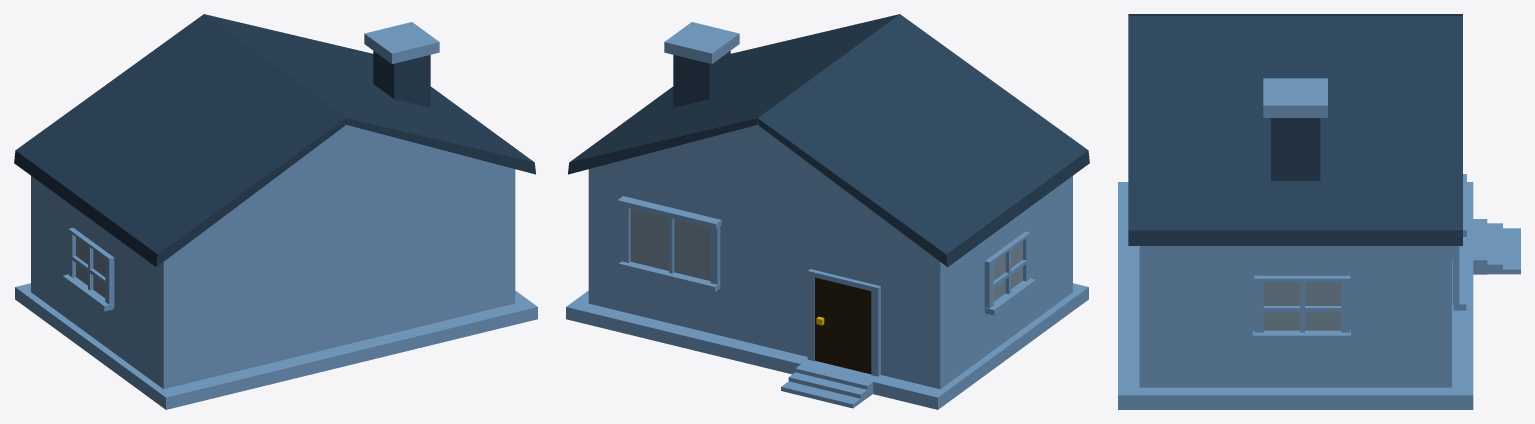
File: Basic Long House Blue Roof.fbx
3 views of the same model, side by side, from view 1: azimuth 30°, elevation 25°; view 2: azimuth 150°, elevation 25°; view 3: azimuth 270°, elevation 25° (orthographic). The views are drawn at different scales.
Parts seen in each view (by area): view 1: pasted__pasted__pasted__pasted__pCube1 (×2), pasted__pasted__pasted__pCube1, pasted__pasted__pCube1 (×2), pasted__pCube1, pasted__pCube2, pasted__pasted__pCube2, pasted__pasted__pasted__pasted__pasted__pasted__pCube1 (×2), pasted__pasted__pasted__pasted__pasted__pCube1; view 2: pasted__pasted__pasted__pCube1 (×3), pasted__pasted__pCube1 (×5), pasted__pCube1, pasted__pasted__pasted__pasted__pasted__pCube1 (×2), pasted__pCube2, pasted__pasted__pasted__pasted__pasted__pasted__pCube1 (×3), pasted__pasted__pCube2, pasted__pasted__pasted__pasted__pasted__pasted__pasted__pCub (×2), pasted__pasted__pasted__pasted__pCube1; view 3: pasted__pasted__pCube1 (×2), pasted__pasted__pasted__pCube1 (×2), pasted__pCube1, pasted__pasted__pasted__pasted__pCube1 (×3), pasted__pCube2, pasted__pasted__pCube2, pasted__pasted__pasted__pasted__pasted__pasted__pCube1 (×2), pasted__pasted__pCube3, pasted__pasted__pasted__pasted__pasted__pasted__pasted__pCub.
Part boxes in pixels (x1,y1,x2,y2): pasted__pasted__pasted__pasted__pCube1 (×2): (68, 124, 514, 388); pasted__pasted__pasted__pCube1: (14, 14, 346, 267); pasted__pasted__pCube1 (×2): (31, 14, 535, 389); pasted__pCube1: (15, 283, 537, 409); pasted__pCube2: (373, 51, 430, 107); pasted__pasted__pCube2: (364, 22, 439, 63); pasted__pasted__pasted__pasted__pasted__pasted__pCube1 (×2): (62, 254, 114, 311); pasted__pasted__pasted__pasted__pasted__pCube1: (76, 237, 105, 297); pasted__pasted__pasted__pCube1 (×3): (588, 14, 1089, 388); pasted__pasted__pCube1 (×5): (568, 14, 1072, 408); pasted__pCube1: (566, 283, 1088, 409); pasted__pasted__pasted__pasted__pasted__pCube1 (×2): (630, 209, 1022, 301); pasted__pCube2: (673, 51, 730, 107); pasted__pasted__pasted__pasted__pasted__pasted__pCube1 (×3): (619, 226, 1035, 315); pasted__pasted__pCube2: (664, 22, 739, 63); pasted__pasted__pasted__pasted__pasted__pasted__pasted__pCub (×2): (617, 196, 721, 262); pasted__pasted__pasted__pasted__pCube1: (984, 234, 1026, 311); pasted__pasted__pCube1 (×2): (1128, 16, 1520, 274); pasted__pasted__pasted__pCube1 (×2): (1128, 14, 1462, 387); pasted__pCube1: (1118, 182, 1473, 409); pasted__pasted__pasted__pasted__pCube1 (×3): (1254, 275, 1350, 332); pasted__pCube2: (1271, 118, 1320, 180); pasted__pasted__pCube2: (1263, 78, 1327, 117); pasted__pasted__pasted__pasted__pasted__pasted__pCube1 (×2): (1253, 249, 1466, 341); pasted__pasted__pCube3: (1263, 306, 1341, 312); pasted__pasted__pasted__pasted__pasted__pasted__pasted__pCub: (1452, 246, 1459, 305).
Size of the model in its own units: 10.44 by 6.4 by 8.15.
